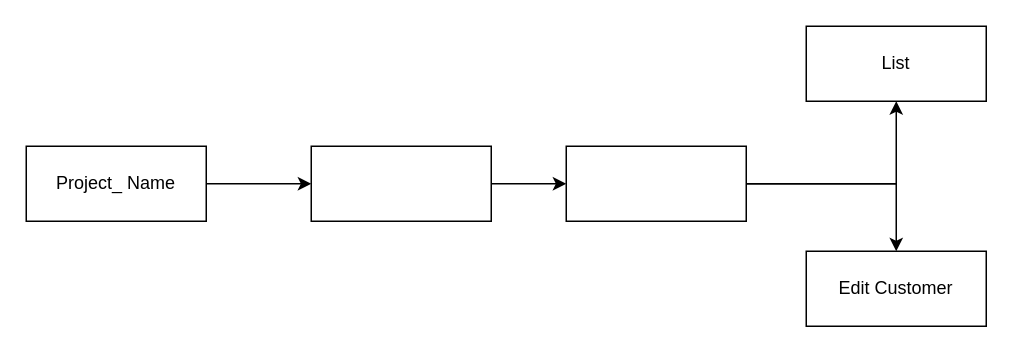
Some shapes in this 1013 by 353 pixel diagram are drawn without their labels. The shapes that lost their labels are listed below. From the top down, each one's box as (x1, y1, x2, y2) in pixels, then its label:
(310, 145, 491, 221): TC
(565, 145, 746, 221): Customers
